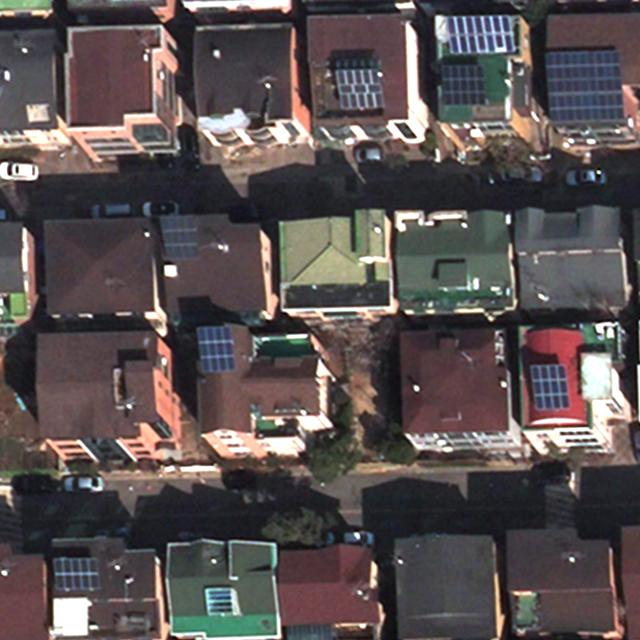panel: (544, 46, 623, 127), (445, 14, 517, 54), (192, 323, 239, 374), (526, 363, 573, 413), (439, 63, 488, 108), (156, 212, 201, 260), (335, 68, 384, 111), (51, 556, 99, 595), (331, 57, 382, 69)
